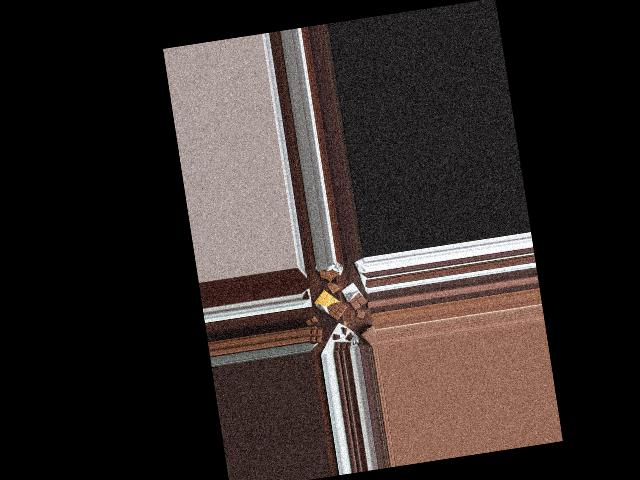chocolate: (339, 282, 370, 311)
